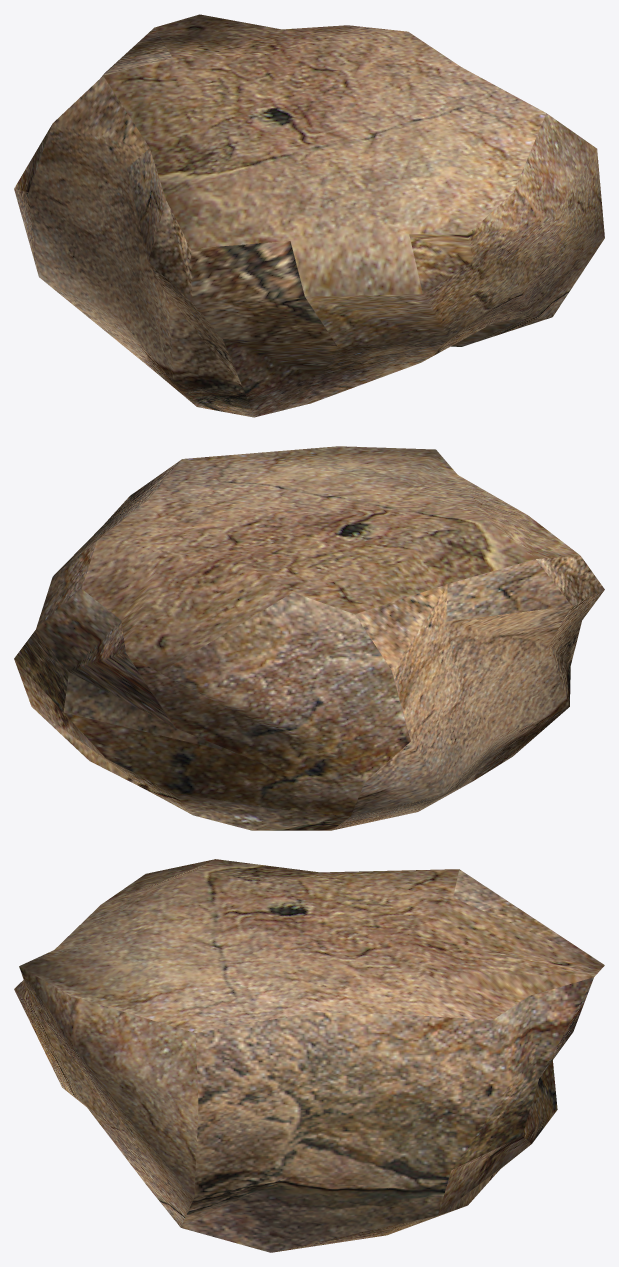
Rendered from rock.obj.
3 views of the same model, one above another, from view 1: azimuth 30°, elevation 25°; view 2: azimuth 150°, elevation 25°; view 3: azimuth 270°, elevation 25° (orthographic).
Visible parts, largest first — view 1: rock; view 2: rock; view 3: rock.
Boxes of the visible parts, x1=… form: rock: x1=14, y1=14, x2=604, y2=417; rock: x1=14, y1=446, x2=604, y2=830; rock: x1=14, y1=859, x2=604, y2=1252.
Bounding box in the file's own units: 3.18 × 1.68 × 3.63.
1 material, 1 textured.
